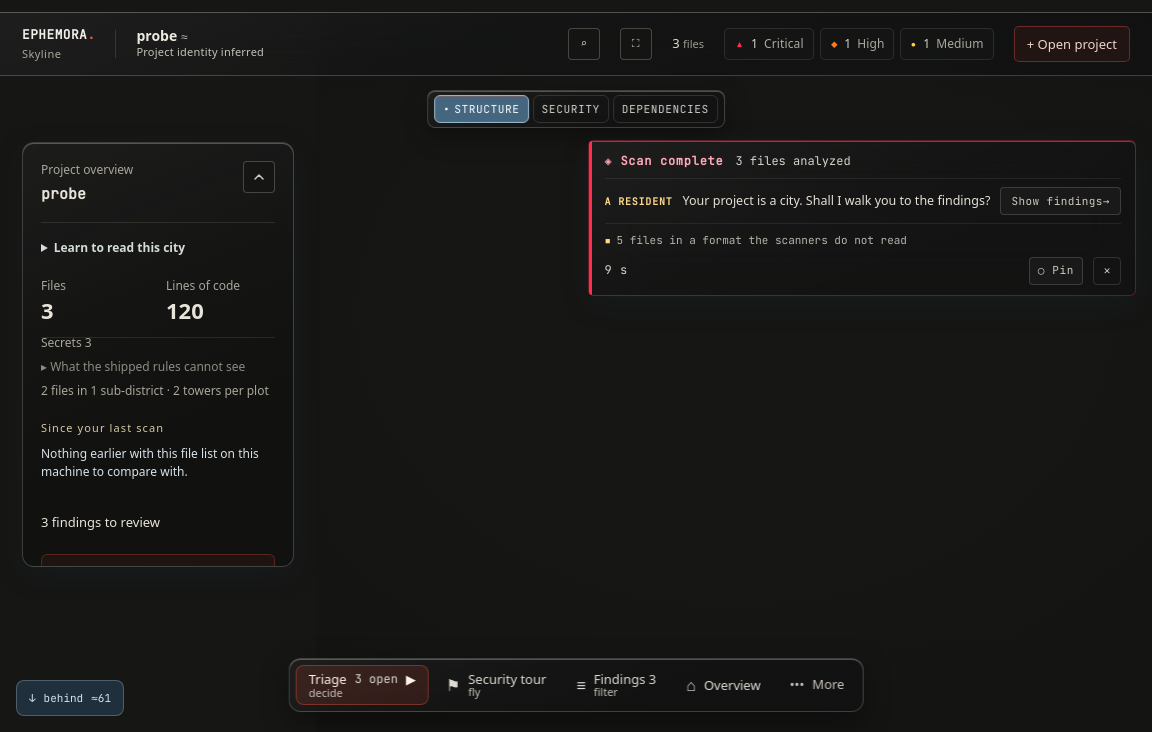
Test: what the budget hides › opens the search from a control that says search
The width and height of the screenshot is (1152, 732).
Click the button "⌕" at [584, 44], box left=568, top=28, right=600, bottom=60
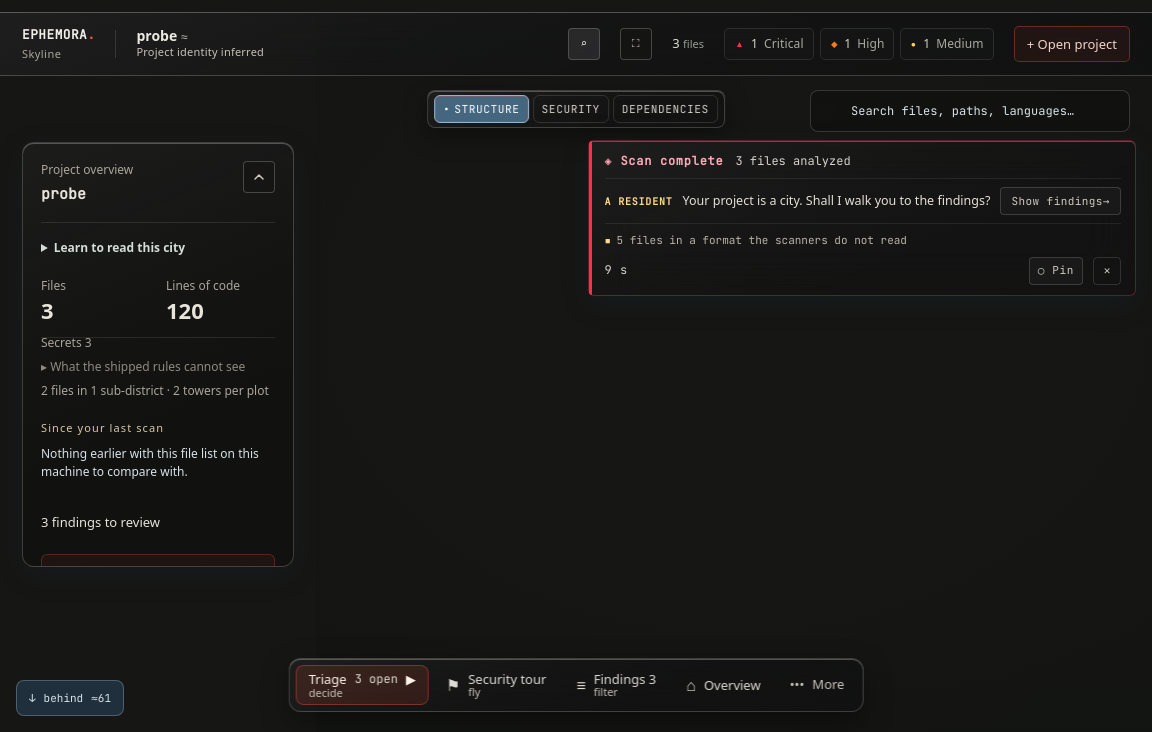
Expected: the element with class "search-control" is shown, left=810, top=90, right=1130, bottom=132
